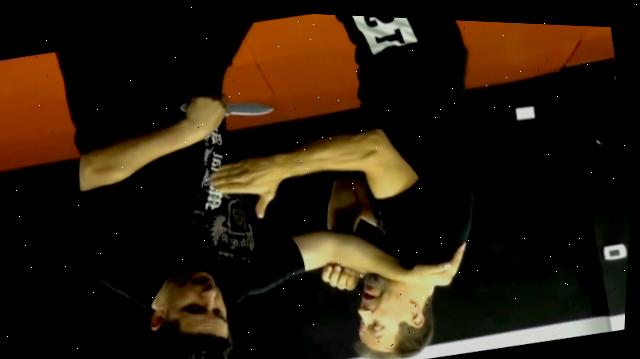pocket-knife: (172, 77, 280, 131)
